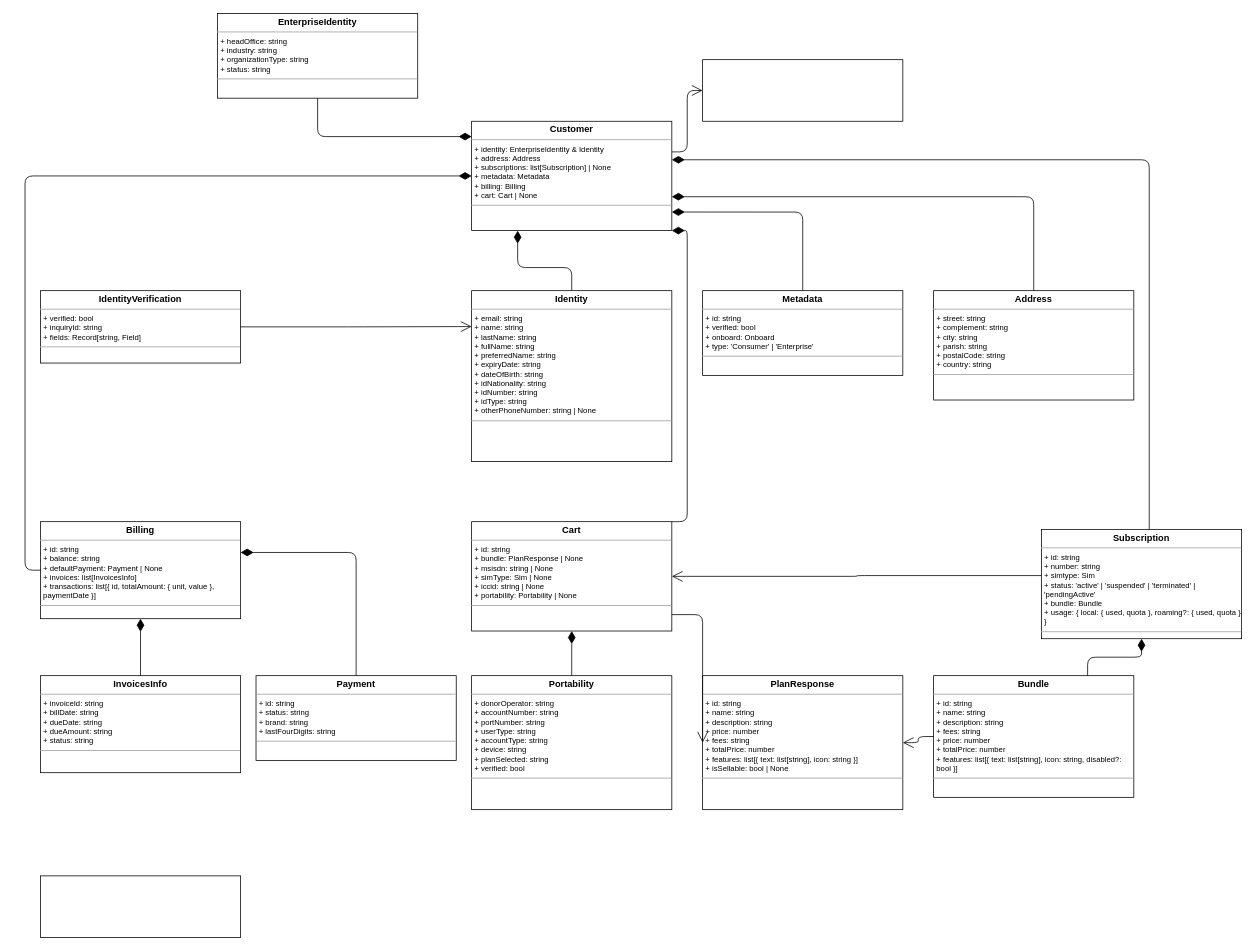
This 1255x951 diagram has some shape labels left out. The shapes that lost their labels are listed below. From the top down, each one's centre as x and y in pixels, then its label:
At point (802, 90): "Session + isLogged: bool + redirectToCurrentStep: bool | None".
At point (140, 906): "accountAtom + email: string + password: string".
